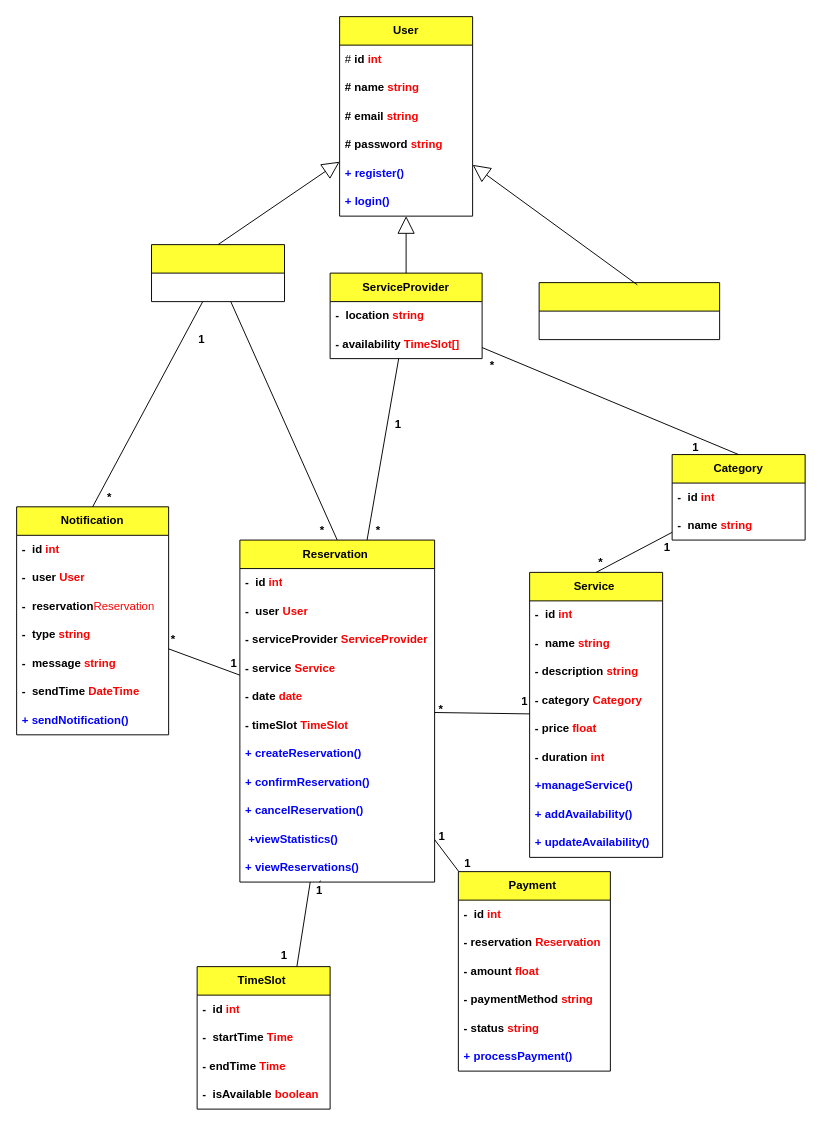
Some shapes in this 822 by 1126 pixel diagram are drawn without their labels. The centre of each missing label's shape, as x and y in pixels:
Admin: point 629,311
Client: point 218,273
